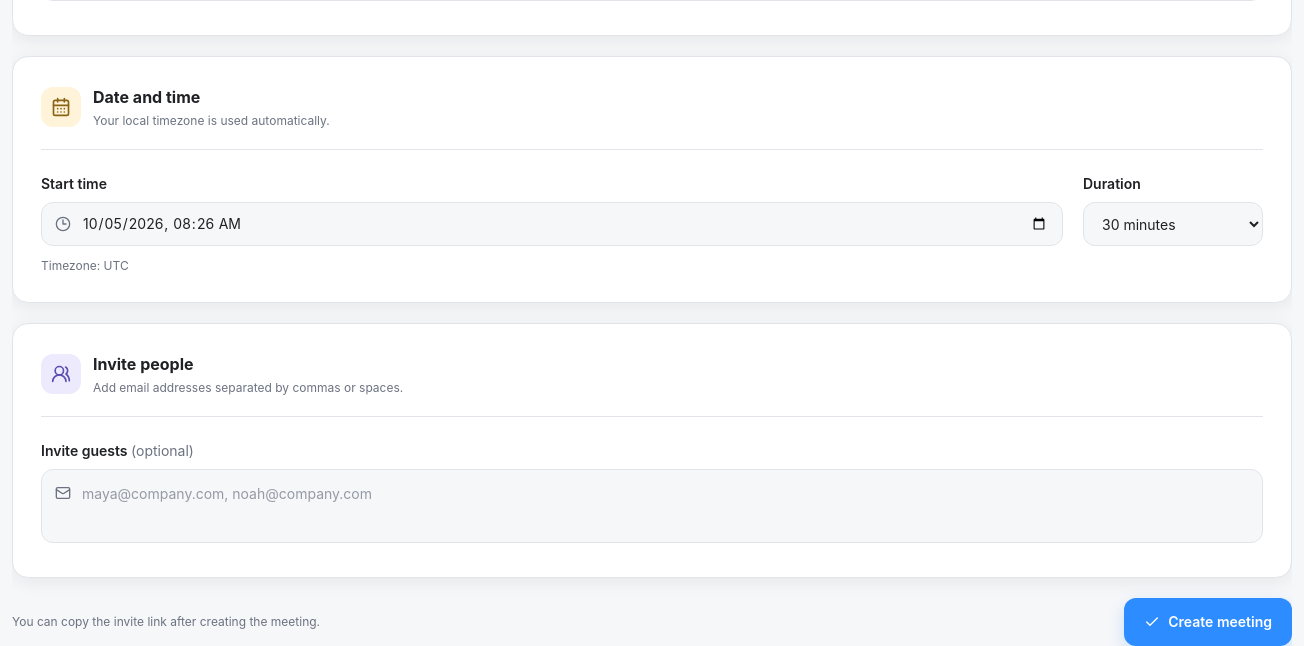
ScheduleForm › requires a meeting name before creating a room
(page scrolled)
Step 1. Click the button "Create meeting" → (1208, 622), box [1124,598,1292,645]
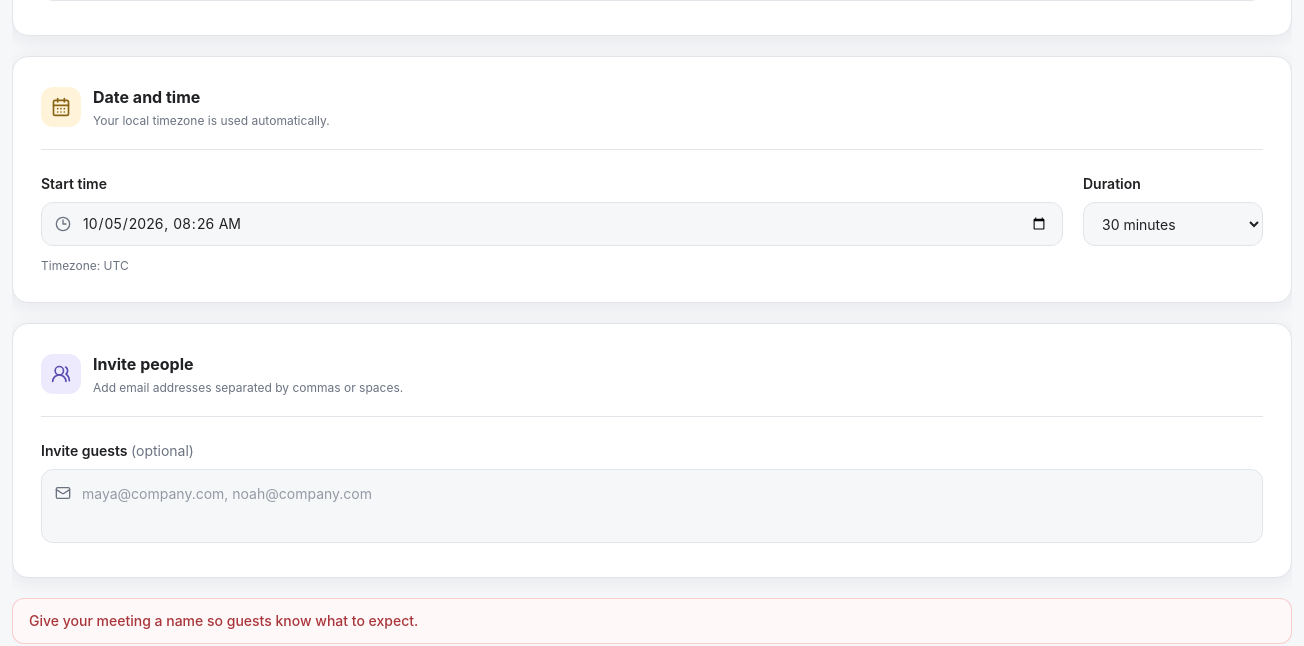
Check: the message shows "Give your meeting a name", box [29,612,418,629]
